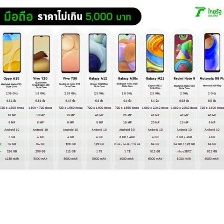phone: (58, 29, 81, 75), (84, 30, 107, 75), (115, 29, 138, 73), (0, 29, 22, 74), (171, 31, 194, 73), (31, 32, 52, 75), (202, 31, 223, 73), (144, 31, 164, 74)
